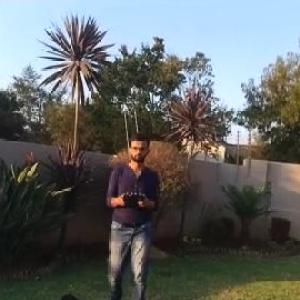follow: (99, 127, 164, 299)
null: (51, 290, 99, 299)
